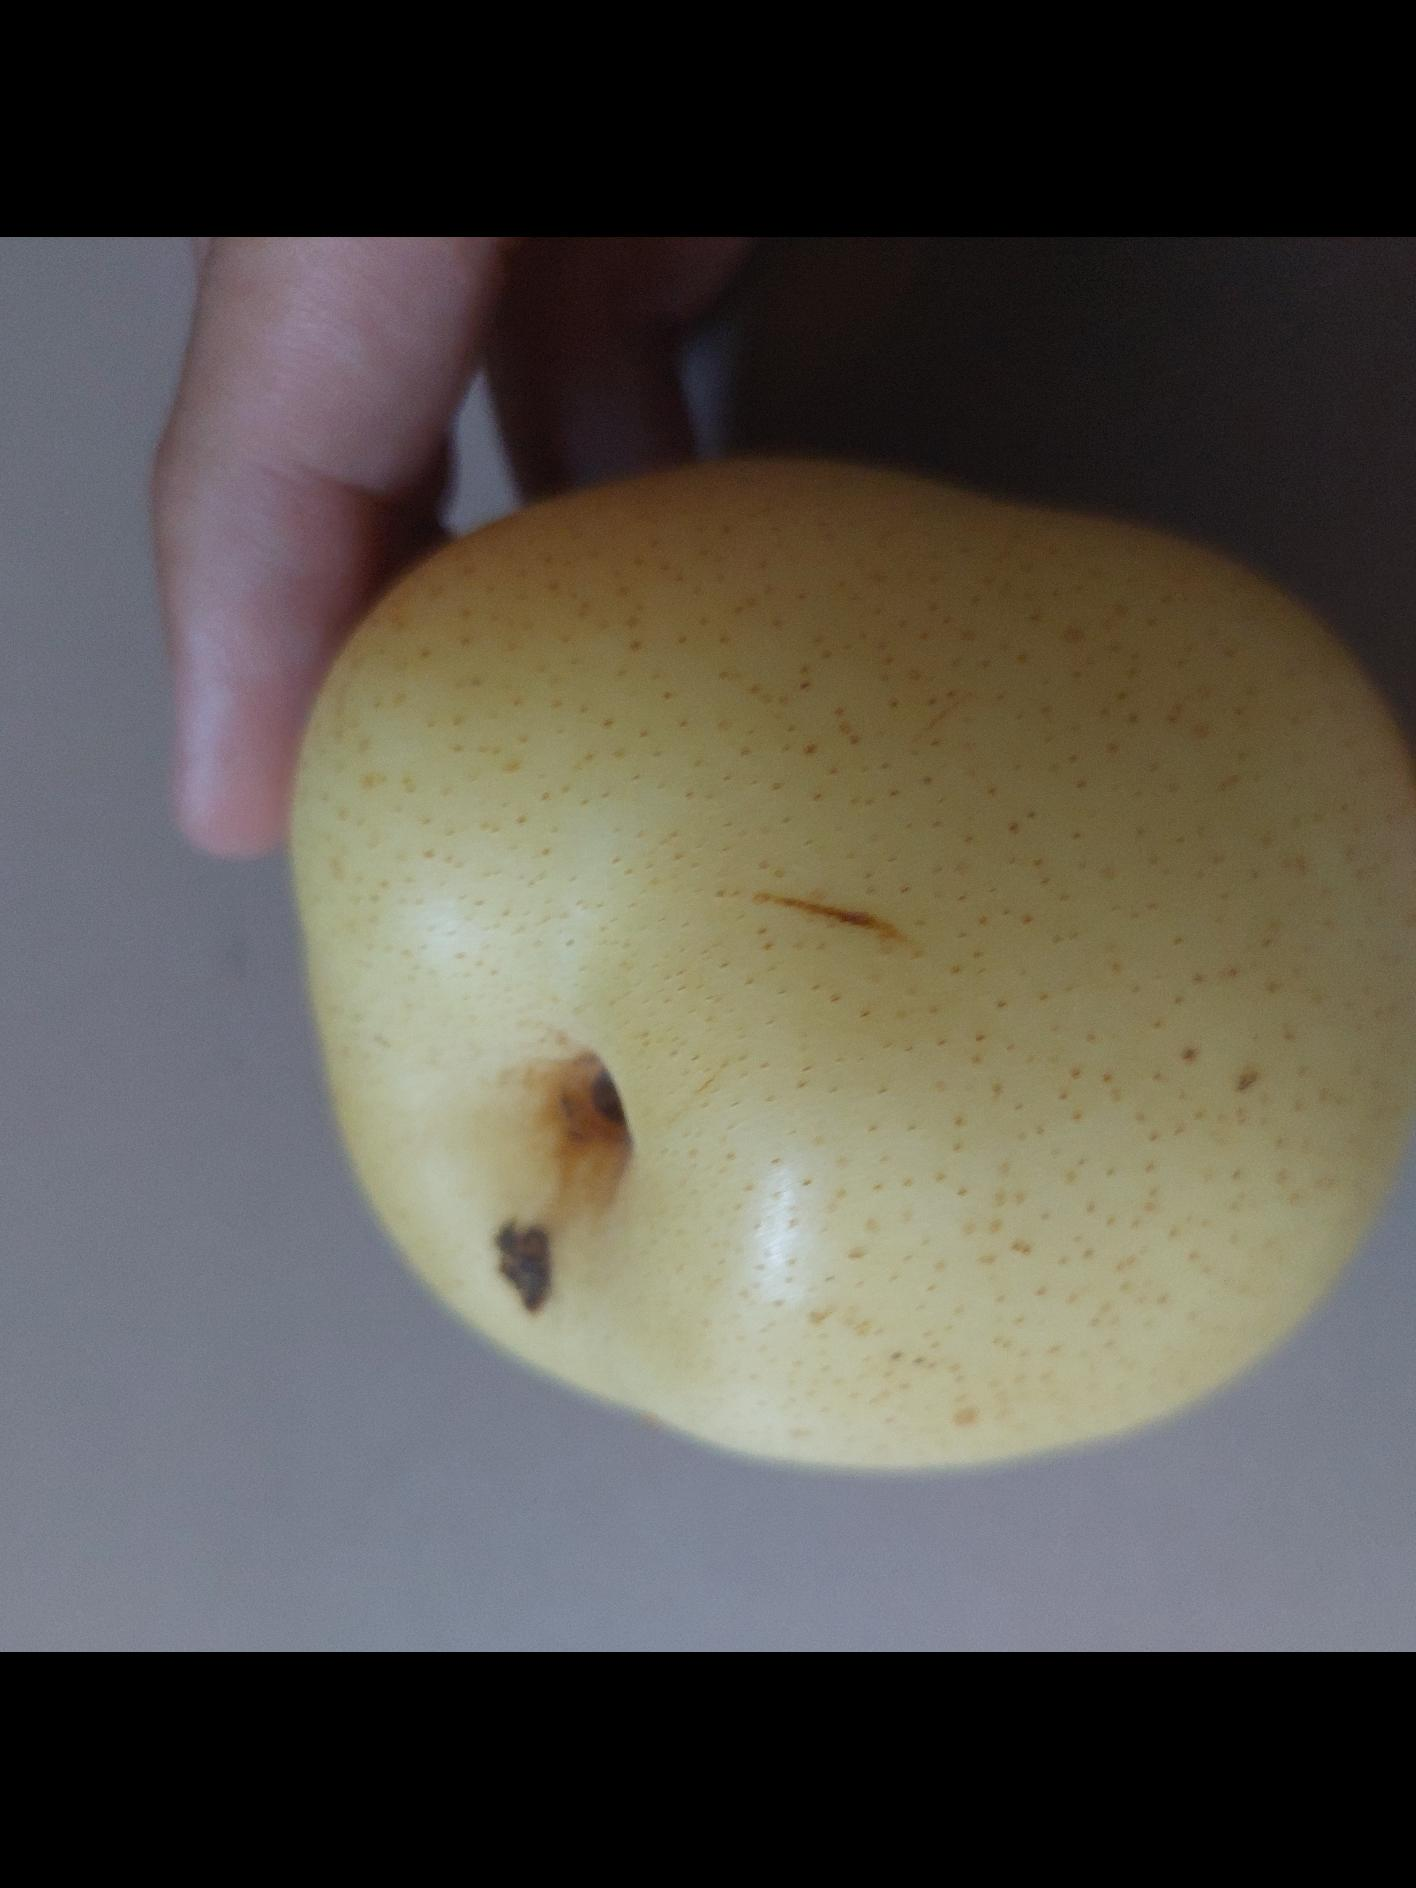Good Pear: (280, 437, 1416, 1484)
